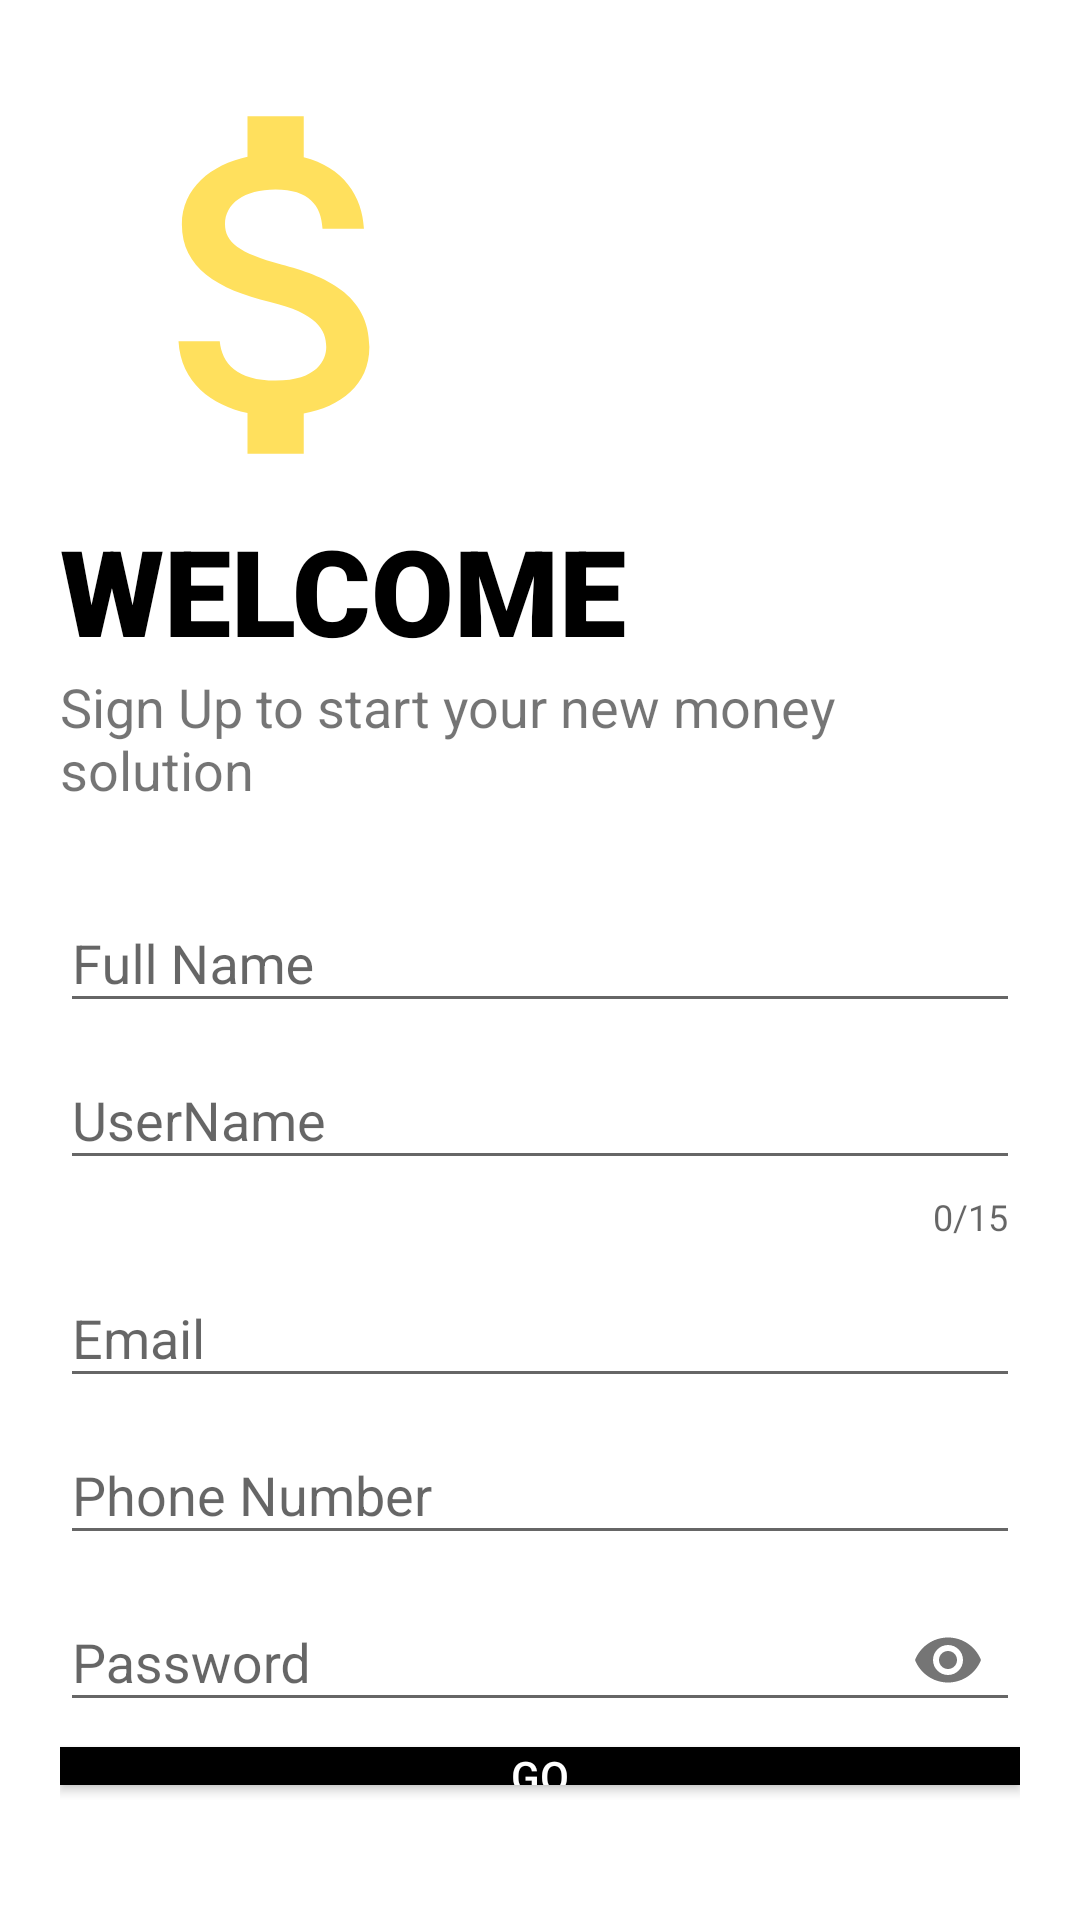

Point at icon controls on the screen. Image size 1080*1920, points as (x,y).
attach money: (274,285)
